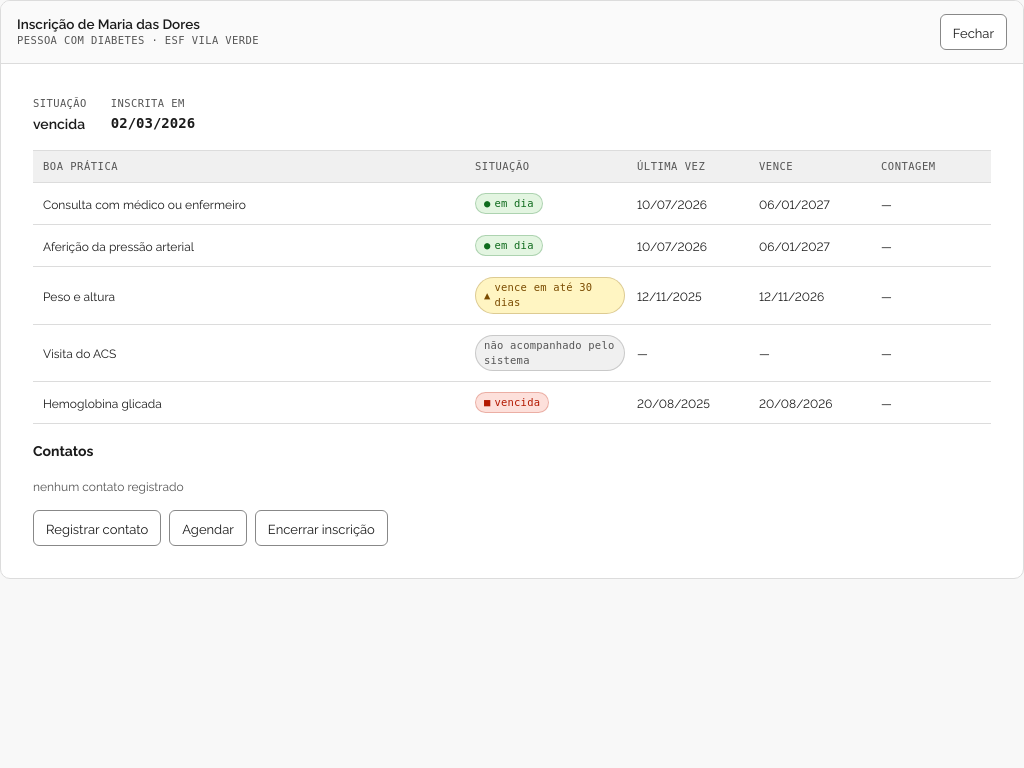
Test: Agendar (atalho para o módulo 17) › pedido de OUTRO tipo sem can_book: a recepção da unidade marca
Click the button "Agendar".
click(208, 528)  # box [169,510,247,546]
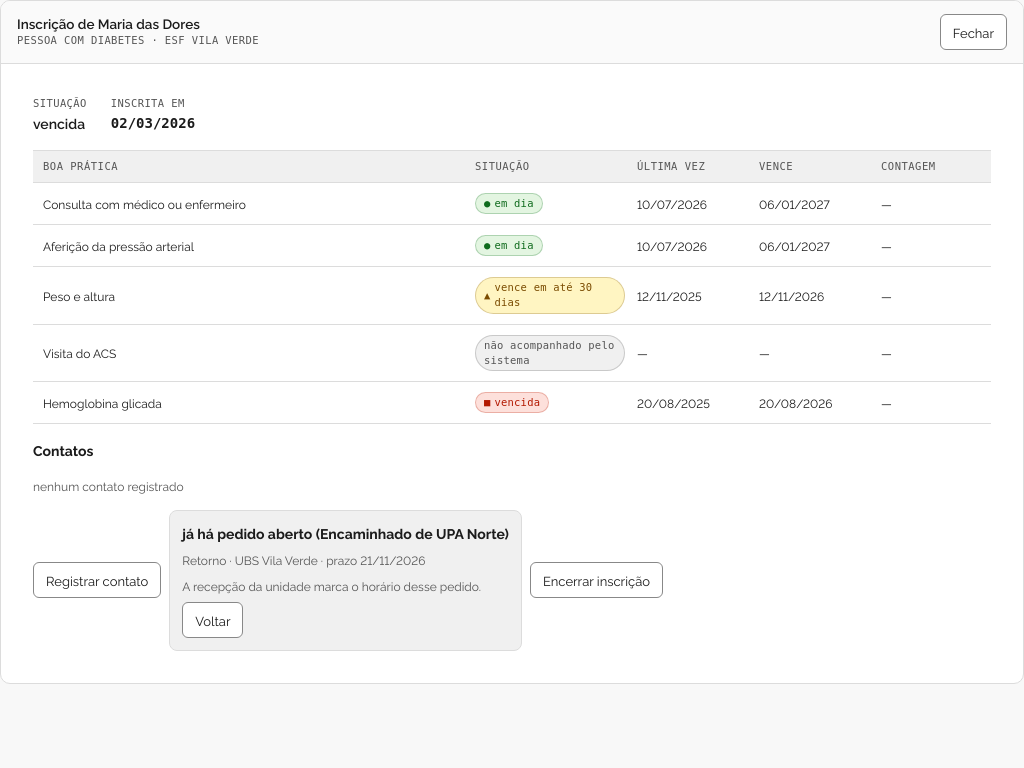
Check: the text "já há pedido aberto (Encaminhado de UPA Norte)" is shown, box [182,523,509,543]
Check: the text "A recepção da unidade marca o horário desse pedido." is shown, box [182,577,509,594]
